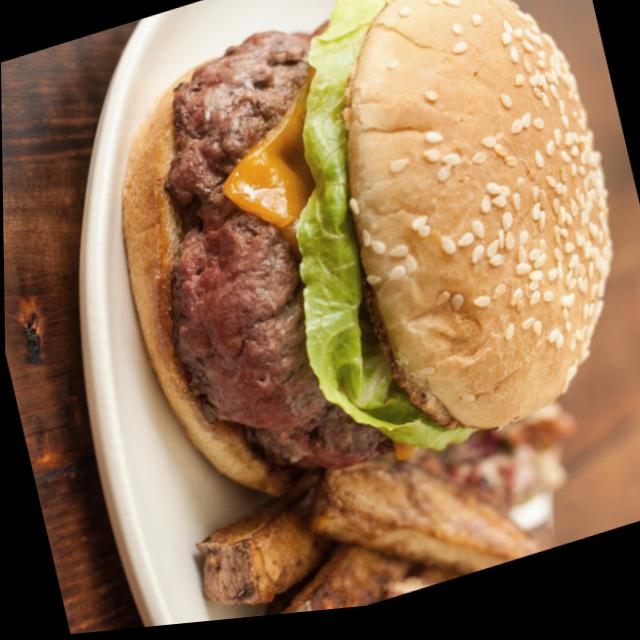burger: (70, 0, 640, 540)
